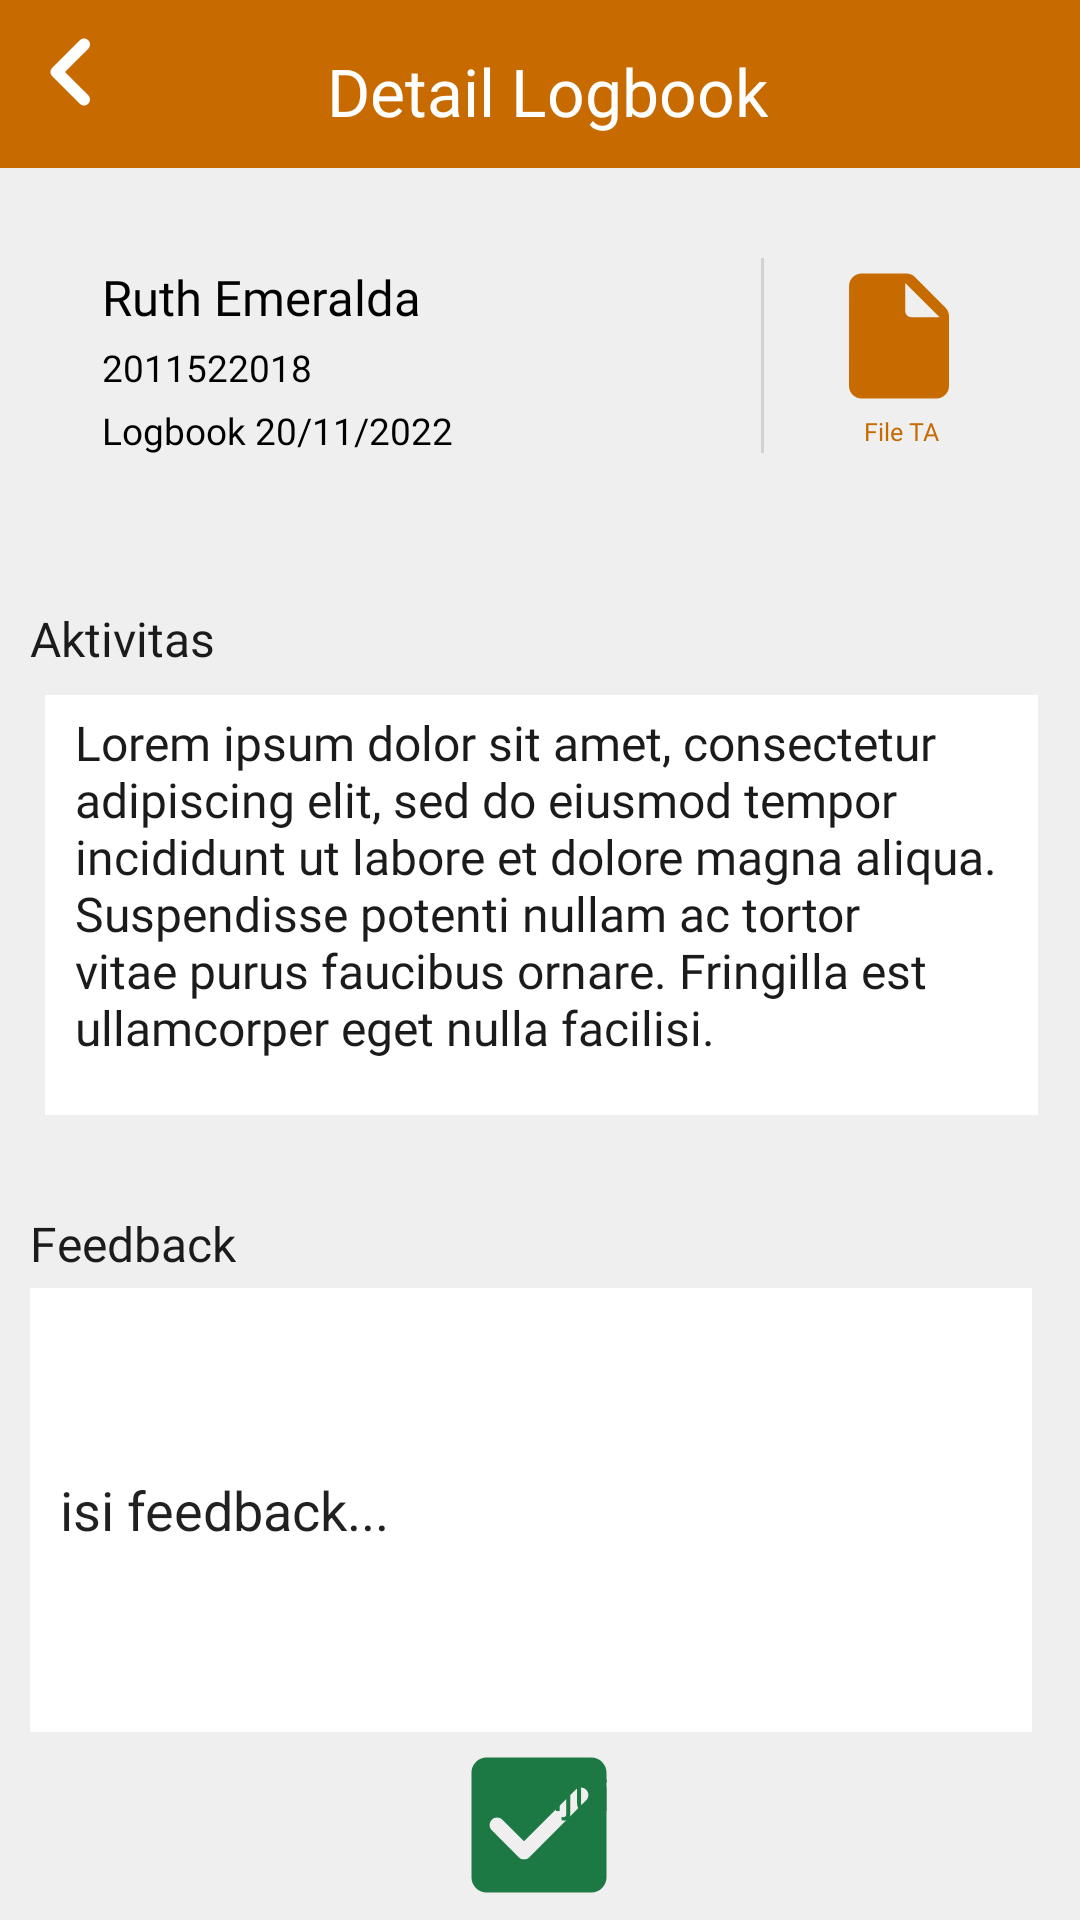

Icon bounding boxes for this 1080px×1920px phone screenshot, format (x1, y1, x2, y2):
check box: (471, 1757, 607, 1893)
keyboard arrow left: (50, 38, 90, 106)
